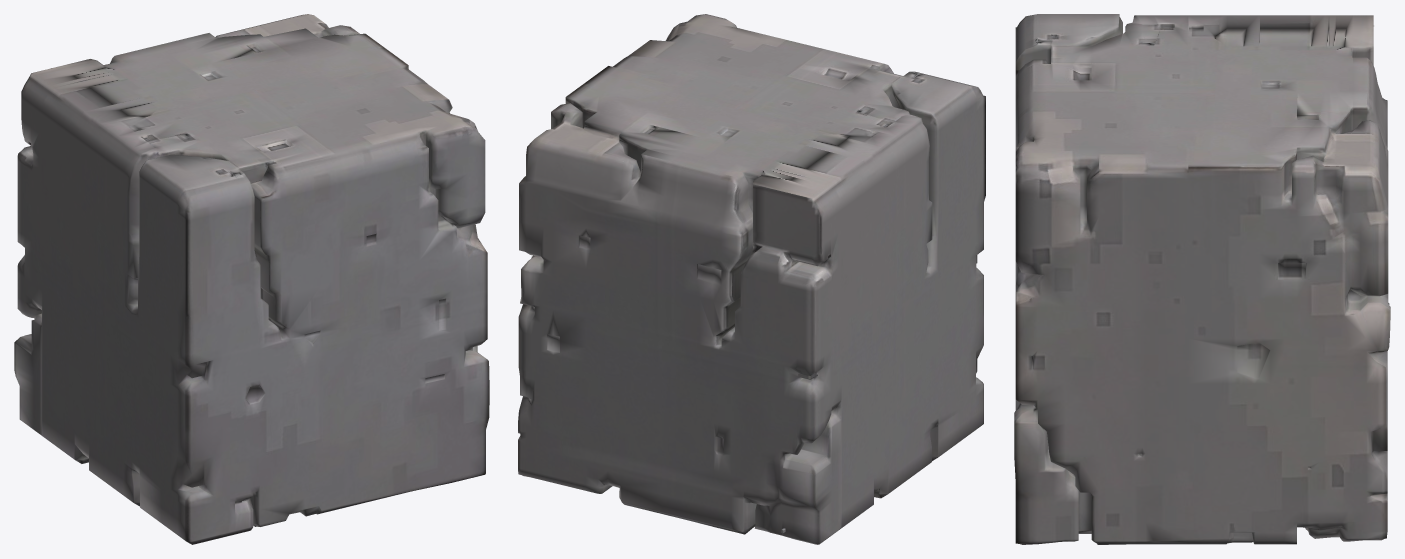
Rendered from wall_1m.glb.
The picture shows the model from 3 angles, left to right: view 1: azimuth 30°, elevation 25°; view 2: azimuth 150°, elevation 25°; view 3: azimuth 270°, elevation 25°; orthographic projection. The views are drawn at different scales.
Parts seen in each view (by area): view 1: tripo_node_1c1c33e5-deb1-46b3-9f5b-e677a267dea1; view 2: tripo_node_1c1c33e5-deb1-46b3-9f5b-e677a267dea1; view 3: tripo_node_1c1c33e5-deb1-46b3-9f5b-e677a267dea1.
Boxes of the visible parts, <box> form: tripo_node_1c1c33e5-deb1-46b3-9f5b-e677a267dea1: <box>14,14,489,544</box>; tripo_node_1c1c33e5-deb1-46b3-9f5b-e677a267dea1: <box>518,14,985,544</box>; tripo_node_1c1c33e5-deb1-46b3-9f5b-e677a267dea1: <box>1014,14,1390,544</box>.
Bounding box in the file's own units: 0.9022 × 1 × 0.9022.
1 material, 1 textured.
